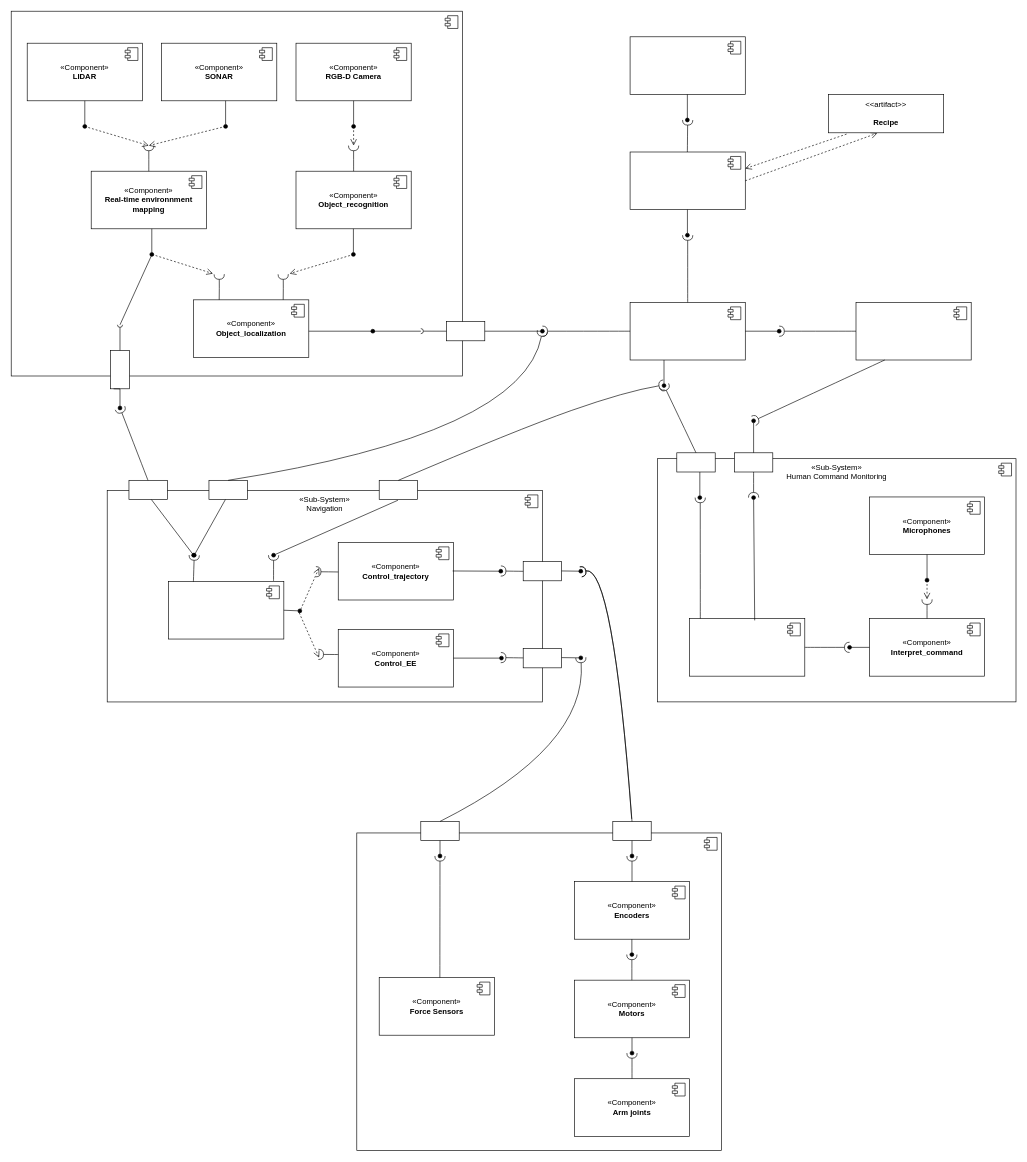
Some shapes in this 1027 by 1162 pixel diagram are drawn without their labels. The box of each missing label's shape, as (x1, y1, x2, y2) in pixels:
«Component» Action_planning: (629, 302, 745, 360)
«Component» Conflict_resolution: (689, 618, 805, 676)
«Component» Memory: (629, 36, 745, 94)
«Component» Path Planning: (168, 581, 284, 639)
«Component» Recipe_tracking: (629, 151, 745, 210)
«Component» Speaker: (855, 302, 971, 360)
«Sub-System» Perception: (11, 11, 462, 376)
«Sub-System» Robot: (356, 832, 722, 1150)
